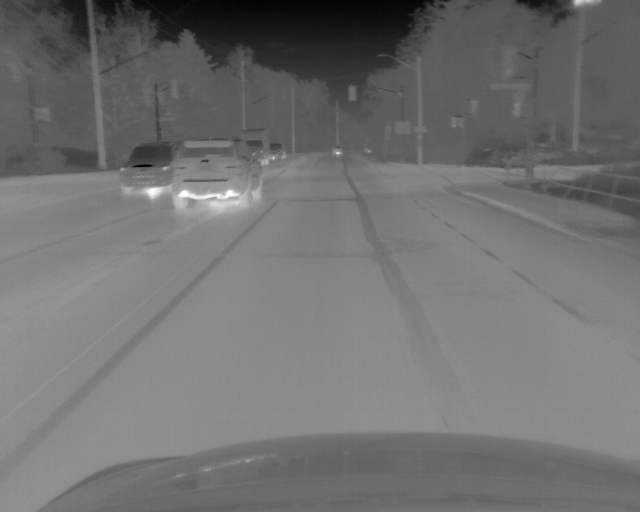car: (169, 138, 265, 209), (118, 141, 171, 198), (246, 137, 269, 167), (266, 141, 286, 168), (331, 144, 343, 158)
